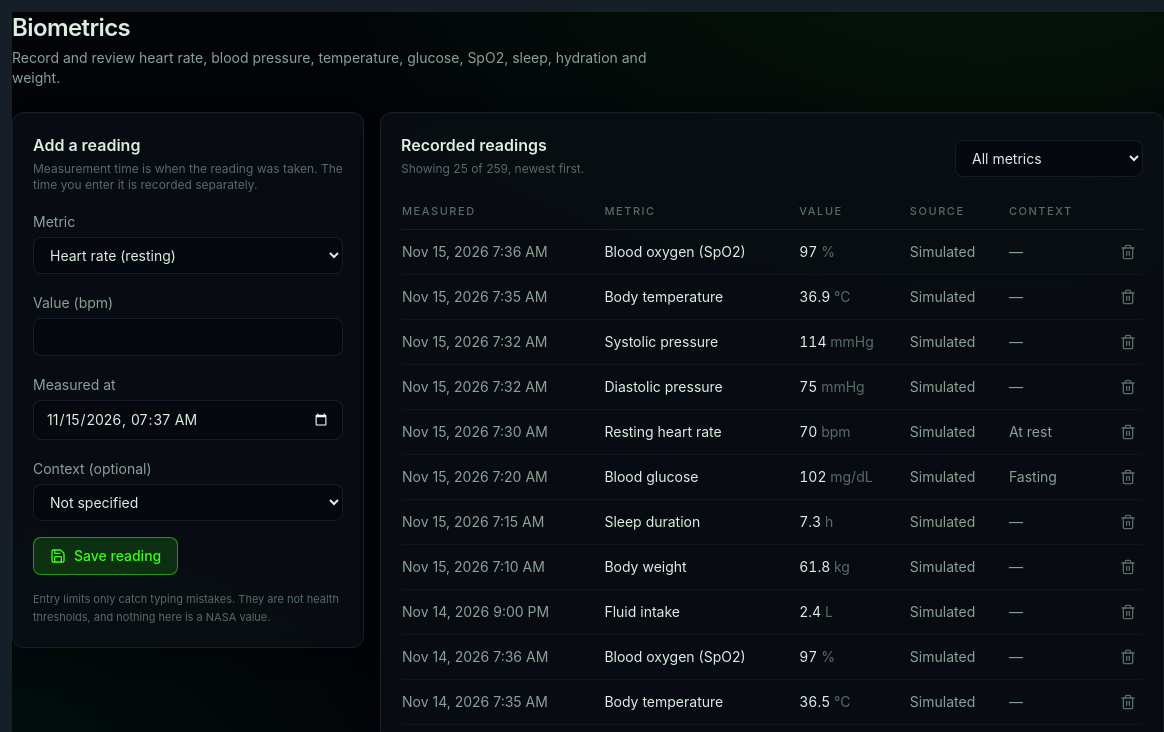
Test: Biometrics page › saves blood pressure as a systolic and diastolic pair
Select "Blood pressure" in the dropdown labelled "Metric": (188, 256) 33,237 -> 343,274
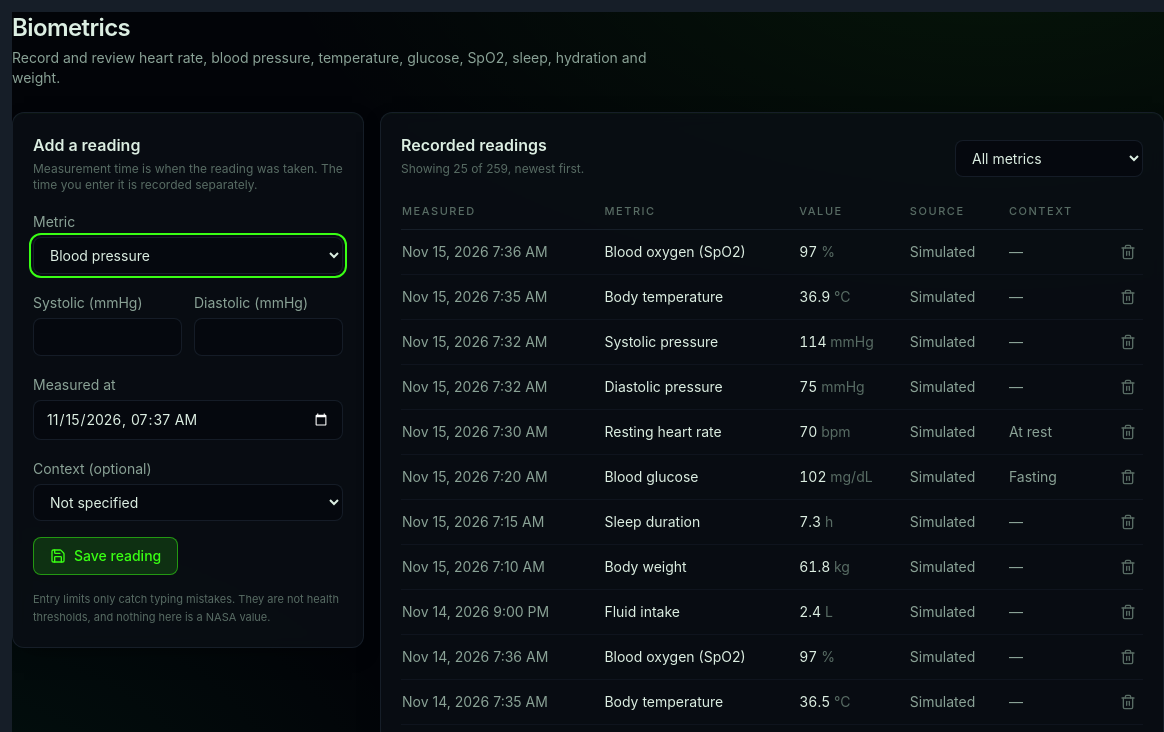
In the field labelled "Systolic (mmHg)": (108, 337) 33,318 -> 182,356, type "122"
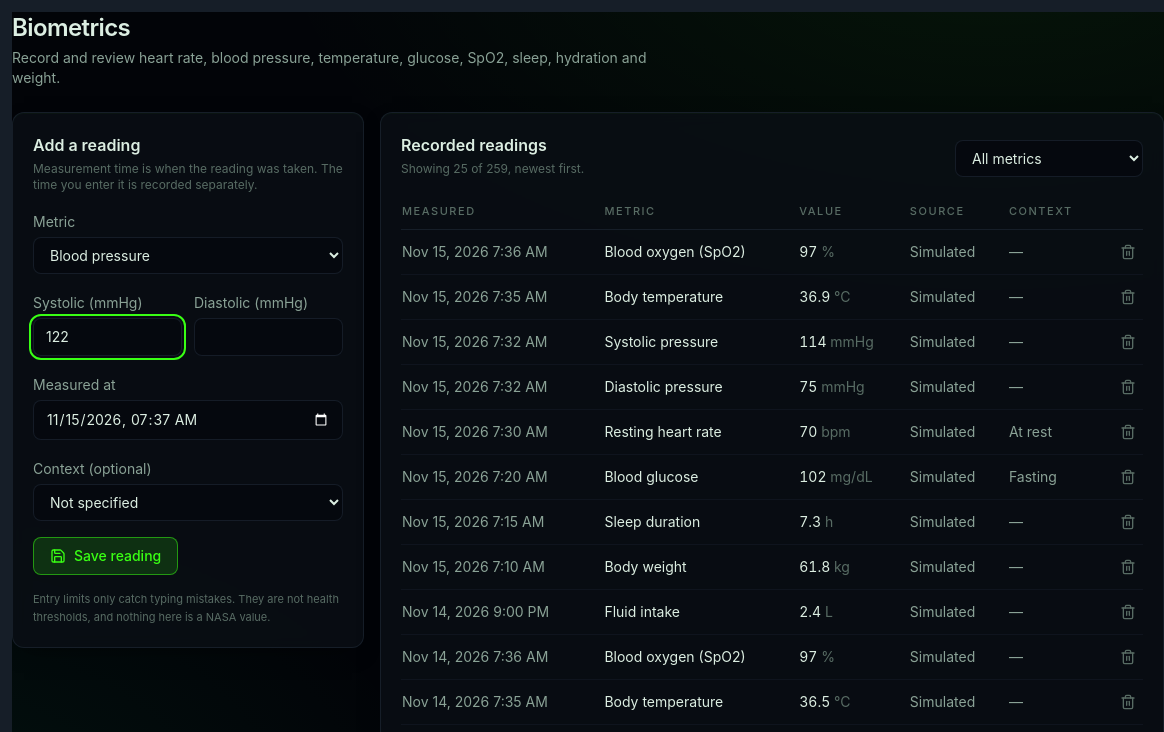
In the field labelled "Diastolic (mmHg)": (268, 337) 194,318 -> 343,356, type "78"
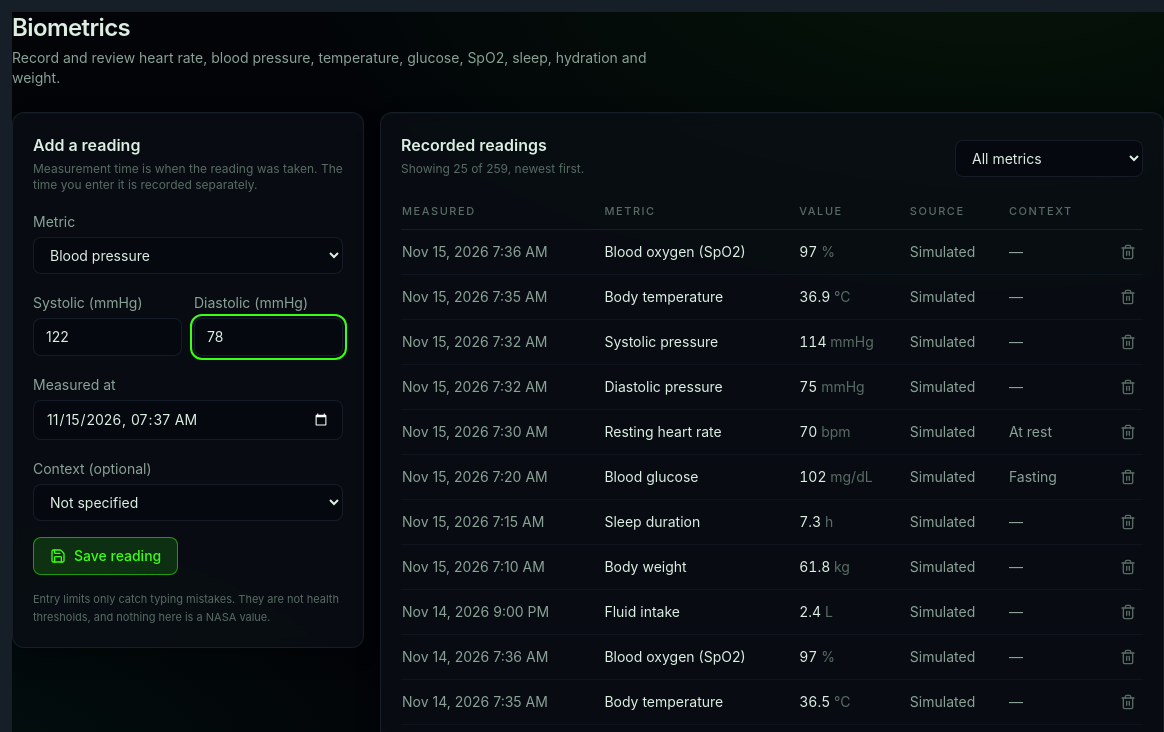
Click the button "Save reading": (106, 556) 33,537 -> 178,575
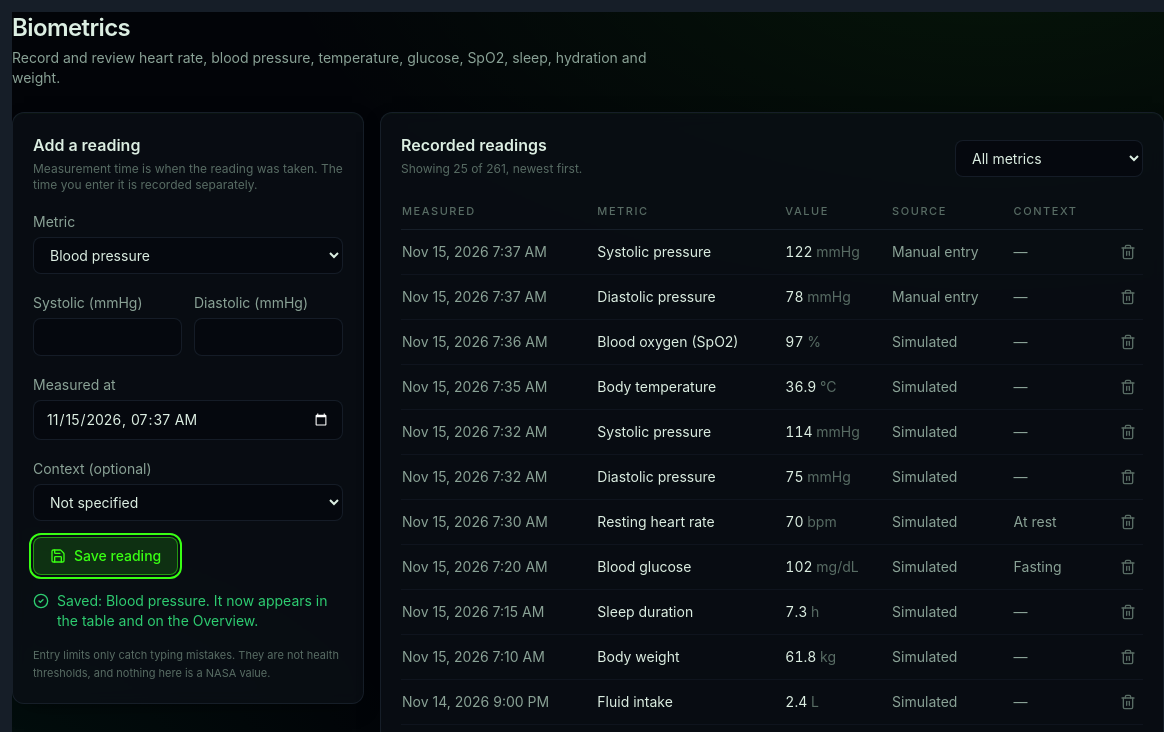
Result: the message "Saved: Blood pressure. It now appears in the table and on the Overview." is shown at 33,591 -> 343,631
